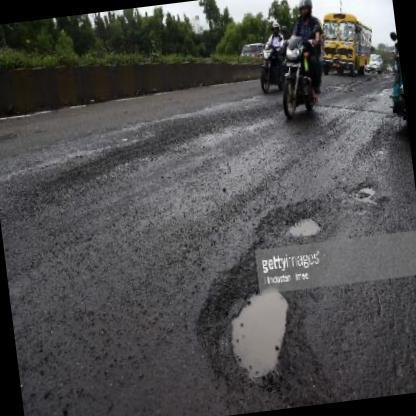pothole: (201, 262, 322, 408), (252, 196, 335, 257), (352, 181, 387, 212)
